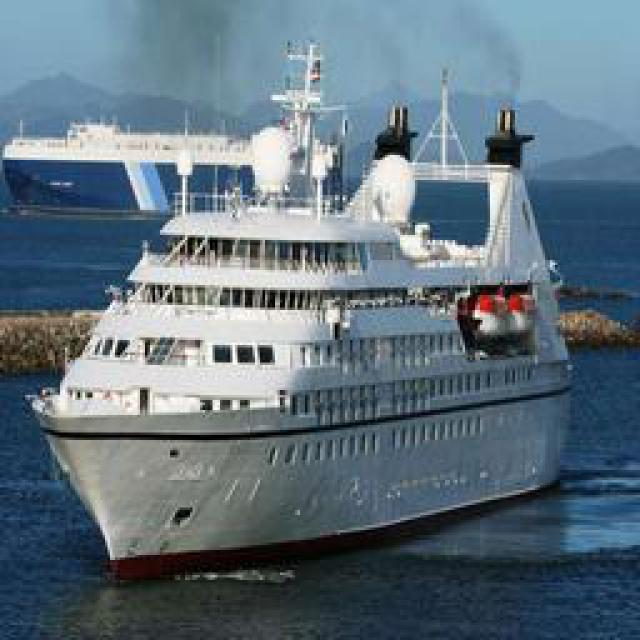Ship: (34, 20, 579, 583)
